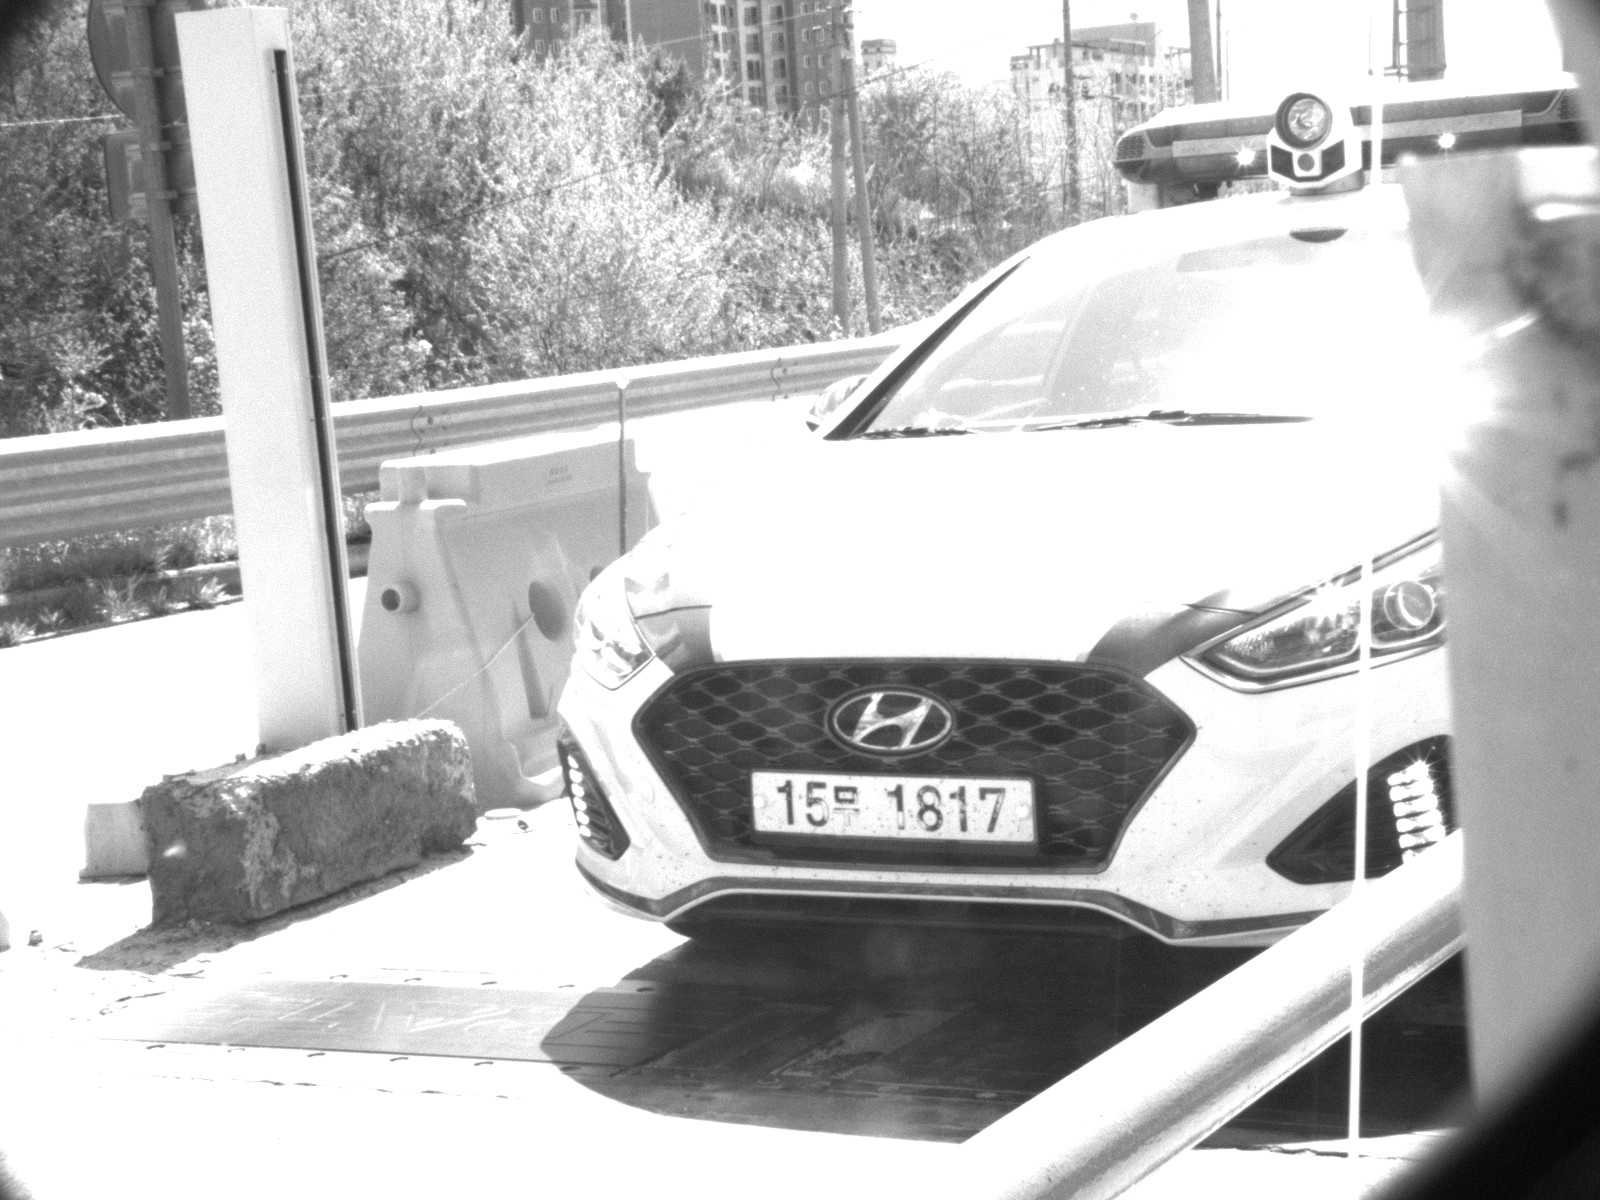car: (552, 179, 1436, 972)
plate: (745, 766, 1041, 850)
